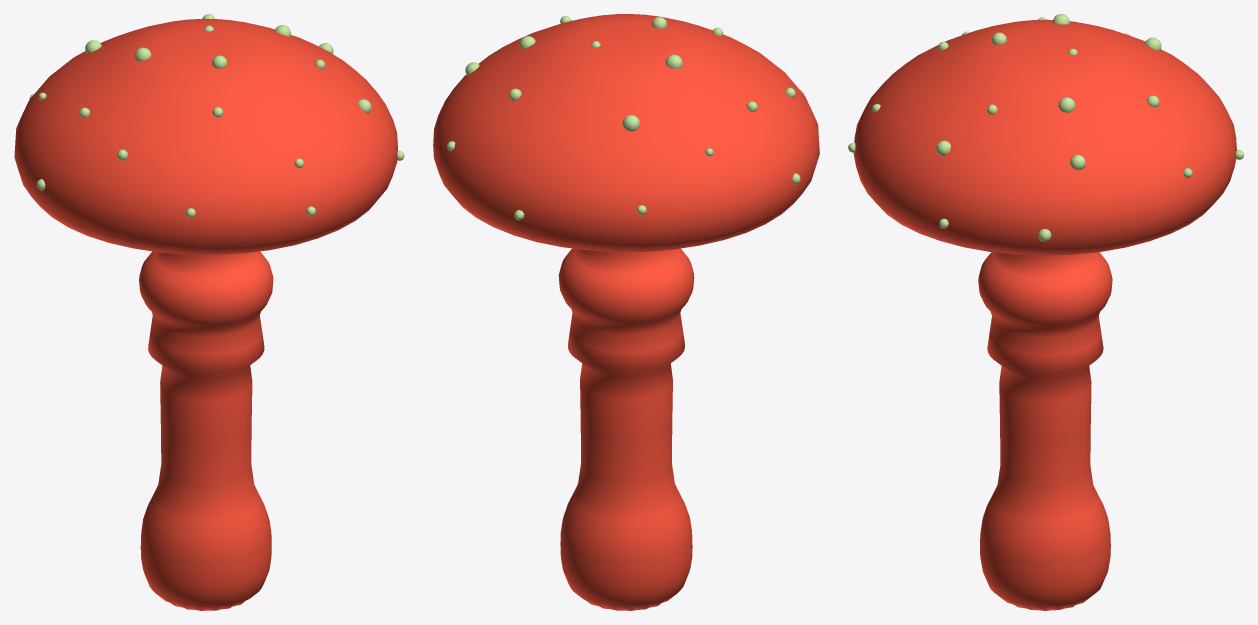
The model's file is magic mushroom.fbx.
3 views of the same model, side by side, from view 1: azimuth 30°, elevation 25°; view 2: azimuth 150°, elevation 25°; view 3: azimuth 270°, elevation 25° (orthographic).
Visible parts, largest first — view 1: magic mush; view 2: magic mush; view 3: magic mush.
Part boxes in pixels (x1=…): magic mush: x1=14, y1=14, x2=404, y2=610; magic mush: x1=433, y1=14, x2=819, y2=610; magic mush: x1=848, y1=14, x2=1243, y2=610.
Bounding box in the file's own units: 403 × 632 × 404.
